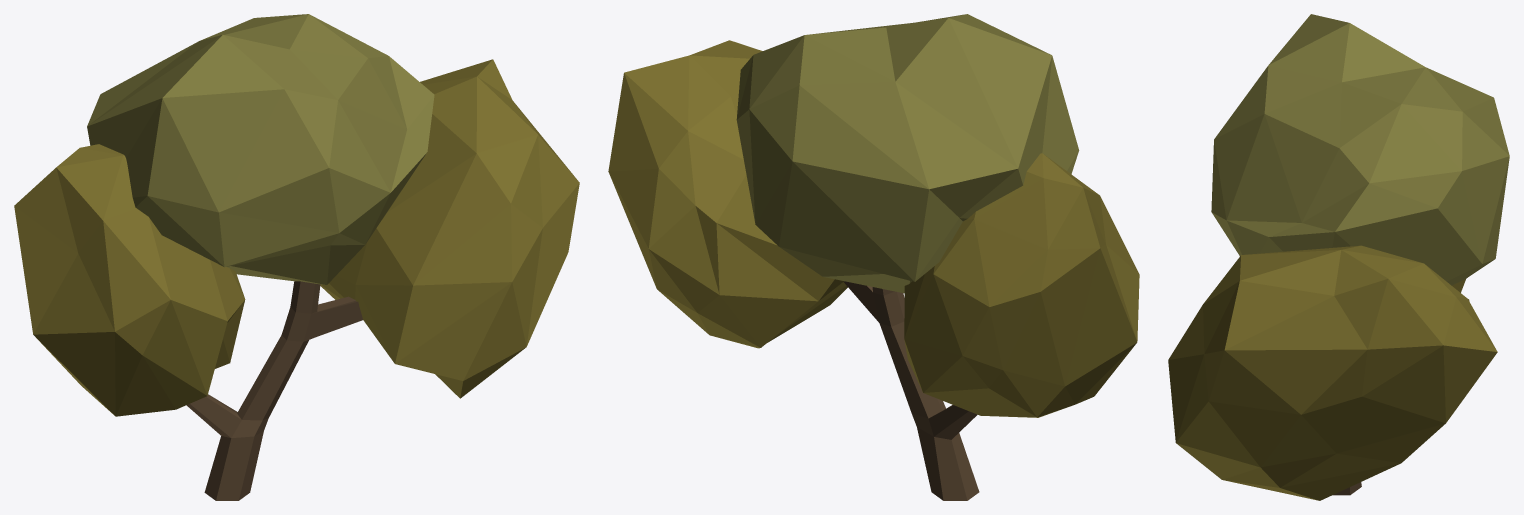
The model's file is enchantedforest_bush_5.fbx.
The picture shows the model from 3 angles, left to right: view 1: azimuth 30°, elevation 25°; view 2: azimuth 150°, elevation 25°; view 3: azimuth 270°, elevation 25°; orthographic projection. The views are drawn at different scales.
Visible parts, largest first — view 1: Cylinder.019; view 2: Cylinder.019; view 3: Cylinder.019.
Part boxes in pixels (left/top/right/bottom): Cylinder.019: left=14, top=14, right=579, bottom=500; Cylinder.019: left=608, top=14, right=1139, bottom=500; Cylinder.019: left=1168, top=14, right=1509, bottom=500.
Size of the model in its own units: 2.72 by 2.41 by 1.61.
